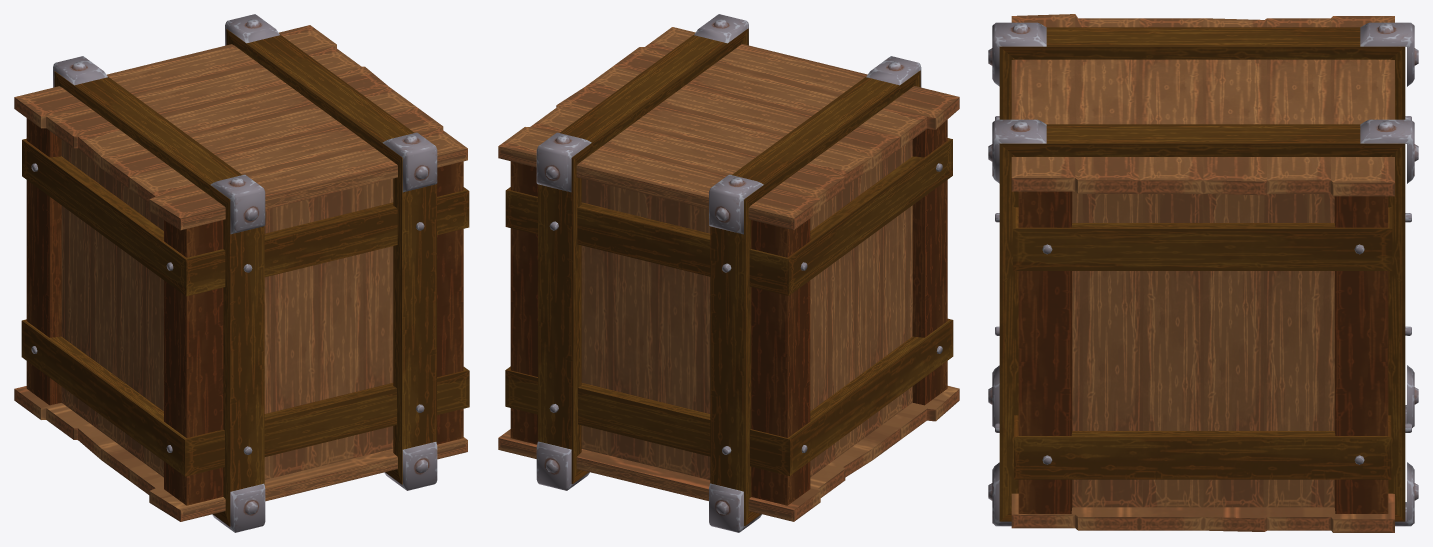
Rendered from Crate_Wooden.gltf.
3 renders of one model, left to right at view 1: azimuth 30°, elevation 25°; view 2: azimuth 150°, elevation 25°; view 3: azimuth 270°, elevation 25°, orthographic. The views are drawn at different scales.
Visible parts, largest first — view 1: Crate_Wooden; view 2: Crate_Wooden; view 3: Crate_Wooden.
Boxes of the visible parts, box(x1,y1,x2,y2) form: Crate_Wooden: box(14, 14, 469, 532); Crate_Wooden: box(498, 14, 959, 532); Crate_Wooden: box(988, 14, 1418, 532).
Size of the model in its own units: 0.8423 by 0.9309 by 0.9083.
2 materials, 2 textured.
